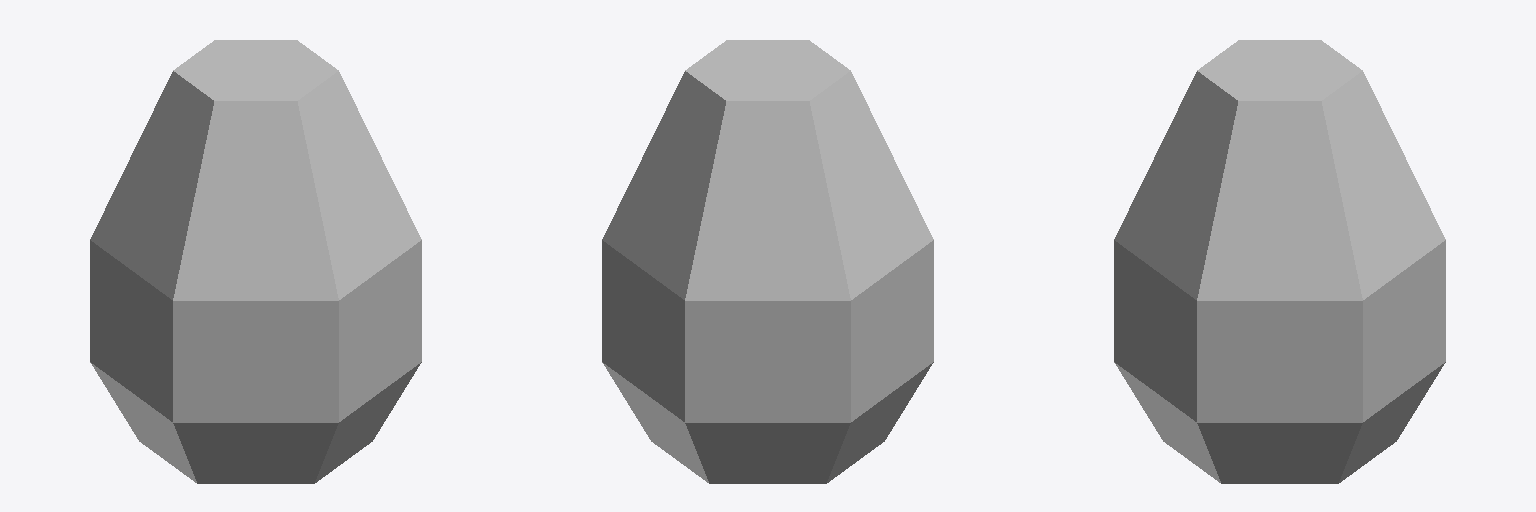
The model's file is avocado.obj.
3 views of the same model, side by side, from view 1: azimuth 30°, elevation 25°; view 2: azimuth 150°, elevation 25°; view 3: azimuth 270°, elevation 25° (orthographic).
Parts seen in each view (by area): view 1: avocado; view 2: avocado; view 3: avocado.
Part boxes in pixels (bbox=[...]): avocado: bbox=[90, 40, 421, 483]; avocado: bbox=[602, 40, 933, 483]; avocado: bbox=[1114, 40, 1445, 483].
Bounding box in the file's own units: 0.1502 × 0.2137 × 0.1734.